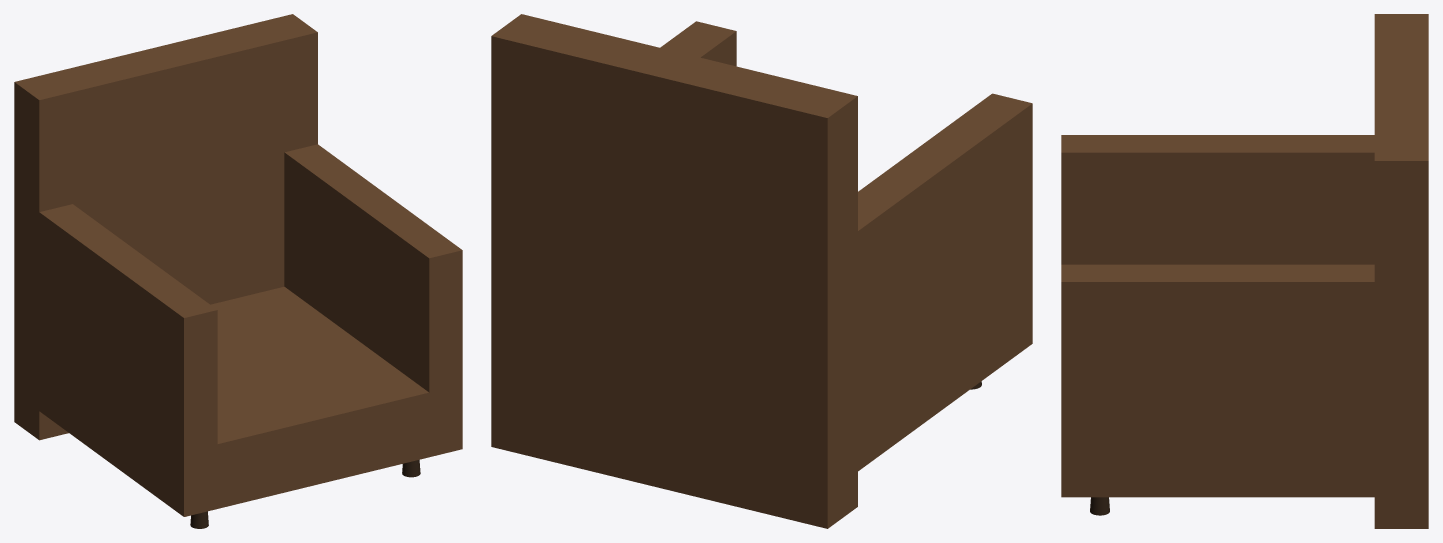
The model's file is sofa_recliner.glb.
The picture shows the model from 3 angles, left to right: view 1: azimuth 30°, elevation 25°; view 2: azimuth 150°, elevation 25°; view 3: azimuth 270°, elevation 25°; orthographic projection. The views are drawn at different scales.
Visible parts, largest first — view 1: furniture; view 2: furniture; view 3: furniture.
Boxes of the visible parts, box(x1,y1,x2,y2) form: furniture: box(14, 14, 462, 528); furniture: box(491, 14, 1032, 528); furniture: box(1061, 14, 1428, 528).
Size of the model in its own units: 0.9 by 1.05 by 0.95.
